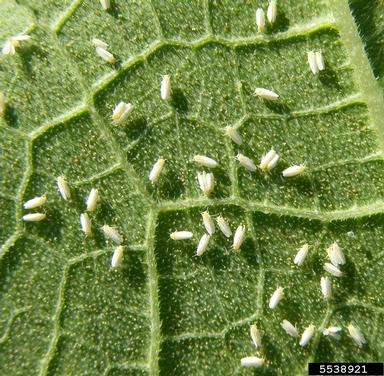Tobacco Whitefly: (163, 227, 220, 258), (252, 146, 282, 184), (98, 107, 138, 135), (305, 46, 335, 80), (143, 152, 171, 188), (152, 60, 173, 107), (256, 78, 285, 112), (263, 283, 295, 312), (223, 117, 245, 152), (12, 212, 56, 227), (85, 185, 104, 216), (93, 39, 113, 68), (290, 240, 308, 272), (112, 244, 130, 275), (25, 194, 48, 208)
